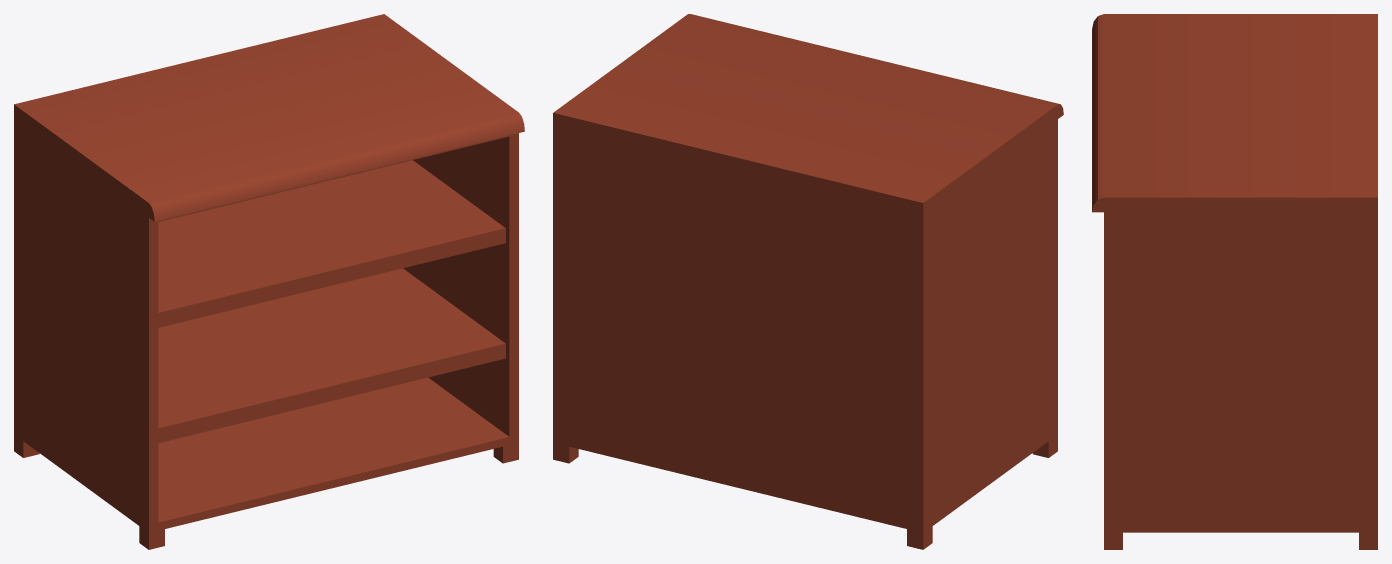
The model's file is .fbx_K_chenschrank_offen_1.fbx.
3 views of the same model, side by side, from view 1: azimuth 30°, elevation 25°; view 2: azimuth 150°, elevation 25°; view 3: azimuth 270°, elevation 25° (orthographic).
Visible parts, largest first — view 1: Küchenschrank offen 1m; view 2: Küchenschrank offen 1m; view 3: Küchenschrank offen 1m.
Boxes of the visible parts, x1,y1,x2,y2 form: Küchenschrank offen 1m: (14, 14, 524, 549); Küchenschrank offen 1m: (553, 14, 1063, 549); Küchenschrank offen 1m: (1092, 14, 1377, 549).
Bounding box in the file's own units: 1 × 0.8954 × 0.658.
